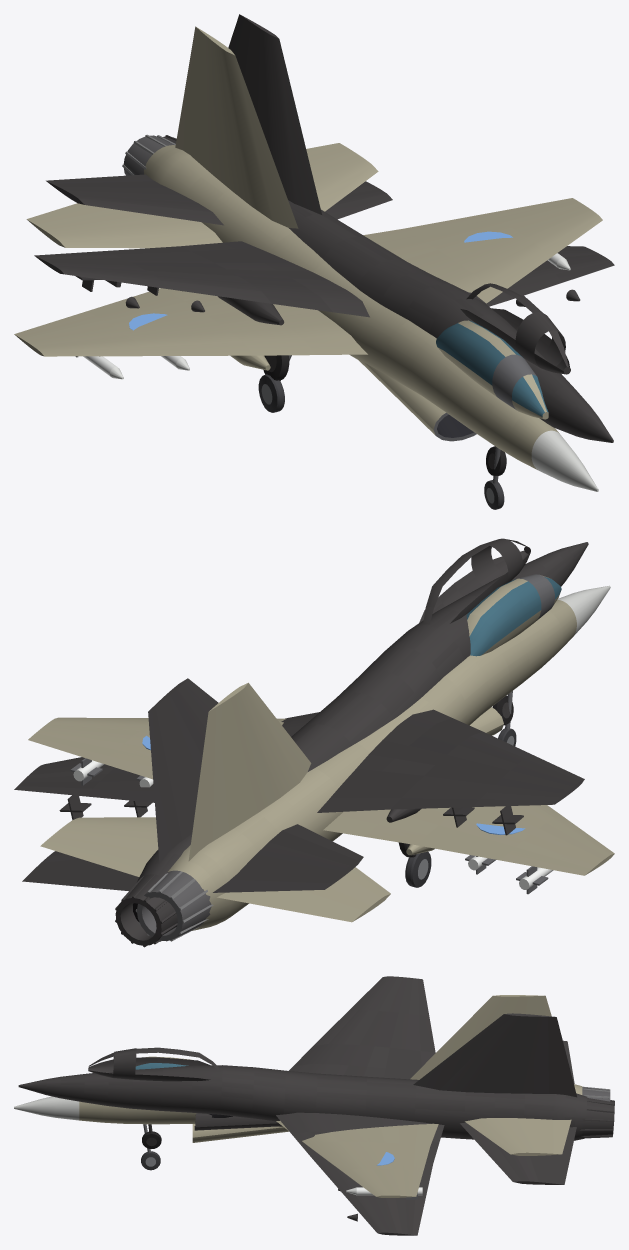
The model's file is jet__f_2a.glb.
3 renders of one model, top to bottom at view 1: azimuth 30°, elevation 25°; view 2: azimuth 150°, elevation 25°; view 3: azimuth 270°, elevation 25°, orthographic. The views are drawn at different scales.
Parts seen in each view (by area): view 1: Fuselage_Mesh, Wreck; view 2: Fuselage_Mesh, Wreck; view 3: Wreck, Fuselage_Mesh.
Boxes of the visible parts, x1=… form: Fuselage_Mesh: x1=14, y1=26, x2=602, y2=509; Wreck: x1=34, y1=14, x2=614, y2=475; Fuselage_Mesh: x1=28, y1=574, x2=614, y2=941; Wreck: x1=14, y1=538, x2=588, y2=947; Wreck: x1=18, y1=976, x2=614, y2=1235; Fuselage_Mesh: x1=14, y1=995, x2=610, y2=1199.
Size of what is drawn, in the model's own units: 11.36 by 5 by 15.65.
